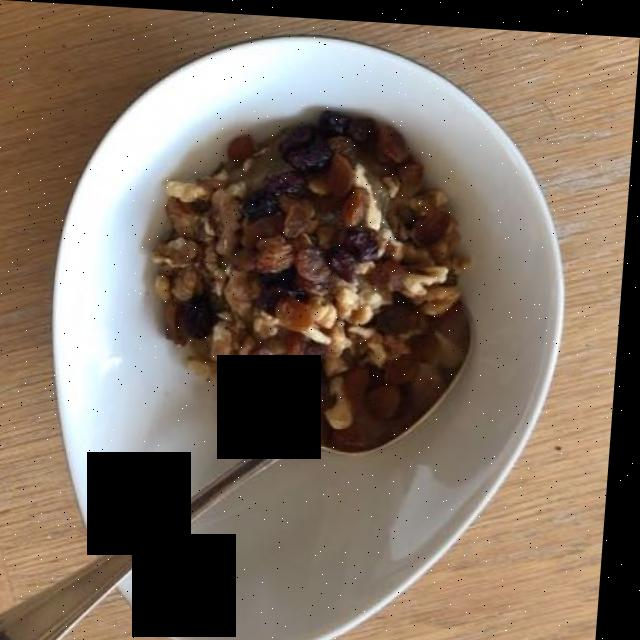applesauce-unsweetened-canned: (158, 112, 467, 440)
dried-raisins: (182, 109, 444, 414)
walnut: (169, 109, 451, 426)
